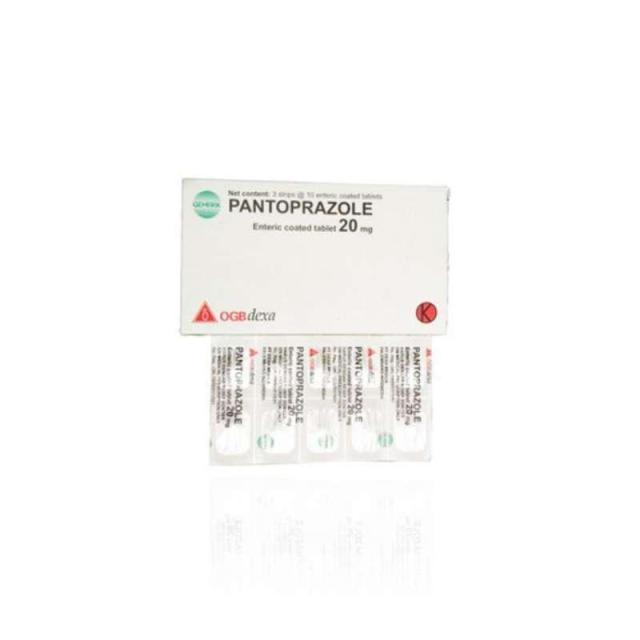drug-name: (229, 194, 376, 218)
